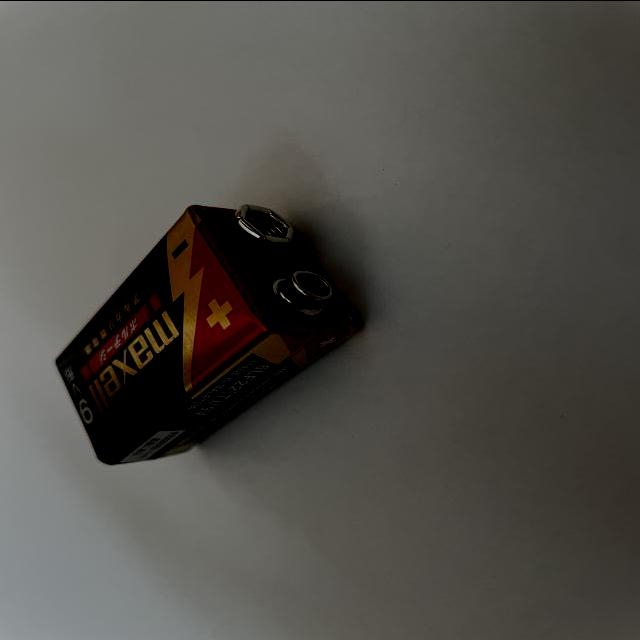9V: (55, 203, 366, 466)
